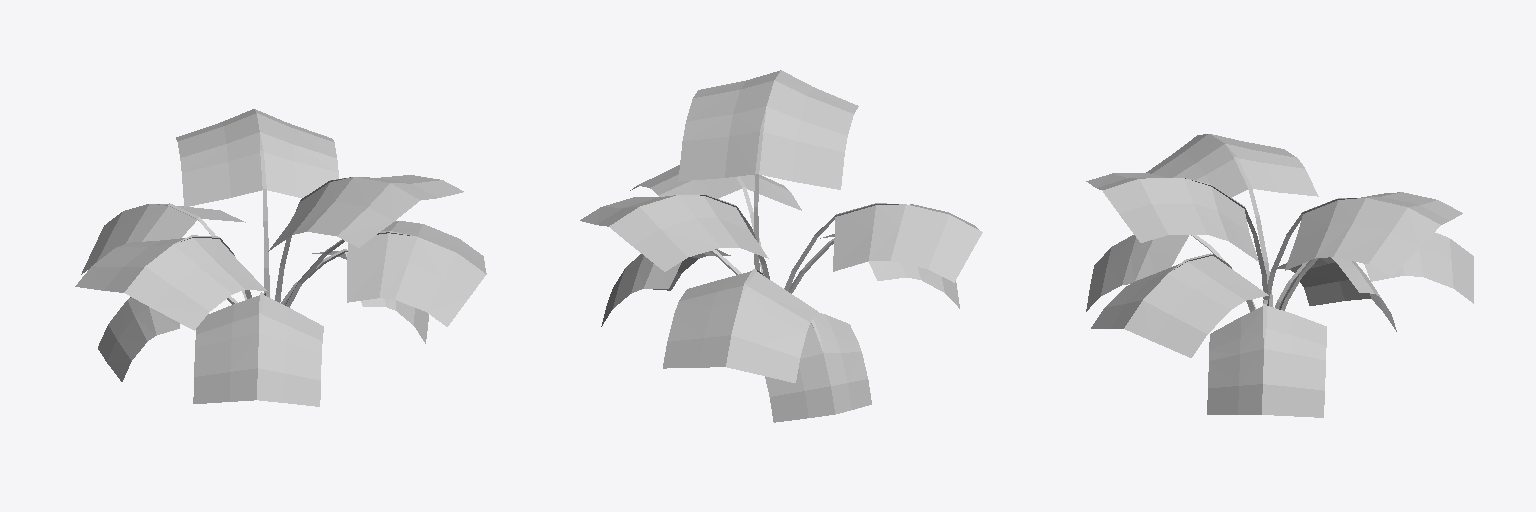
Rendered from monstera 02_lod1.obj.
3 views of the same model, side by side, from view 1: azimuth 30°, elevation 25°; view 2: azimuth 150°, elevation 25°; view 3: azimuth 270°, elevation 25° (orthographic).
Visible parts, largest first — view 1: tree; view 2: tree; view 3: tree.
Part boxes in pixels (x1,y1,x2,y2): tree: (75, 109, 486, 406); tree: (580, 70, 982, 422); tree: (1086, 134, 1473, 417).
Bounding box in the file's own units: 143 × 80.64 × 131.